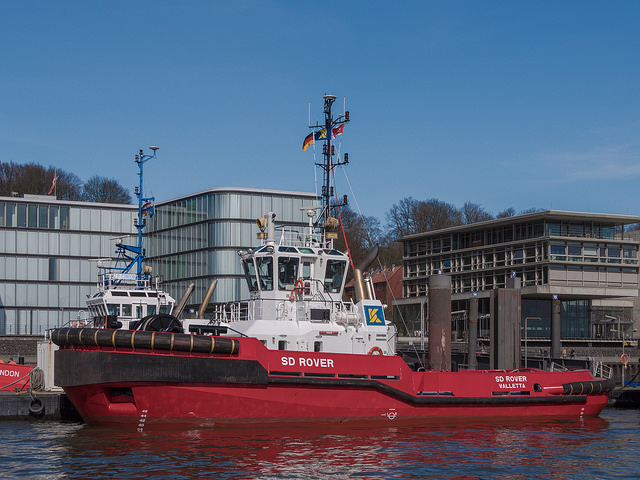tug_boat: (62, 206, 610, 434)
